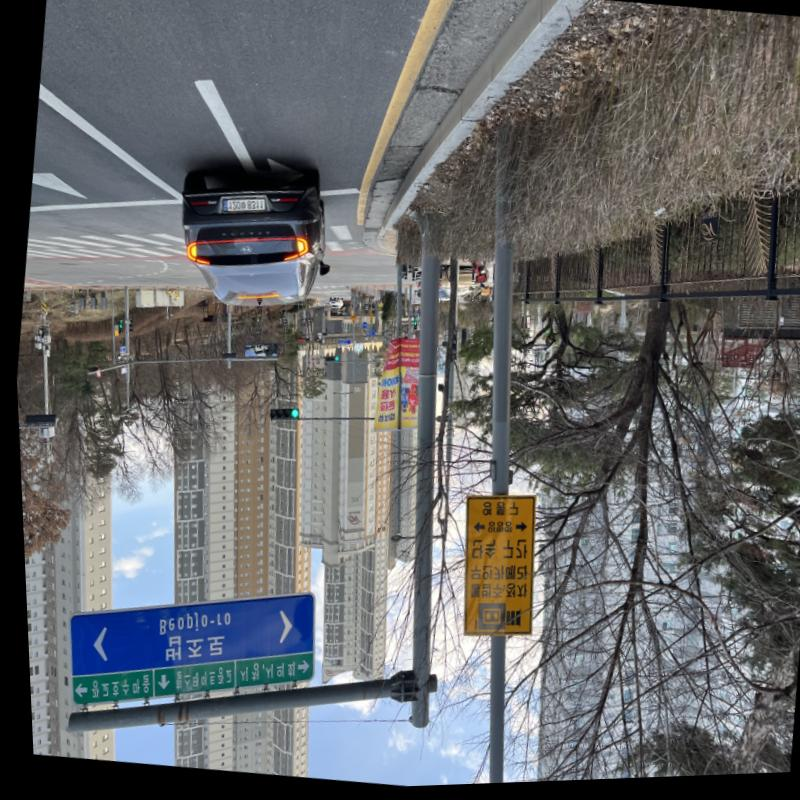green: (286, 411, 295, 420)
